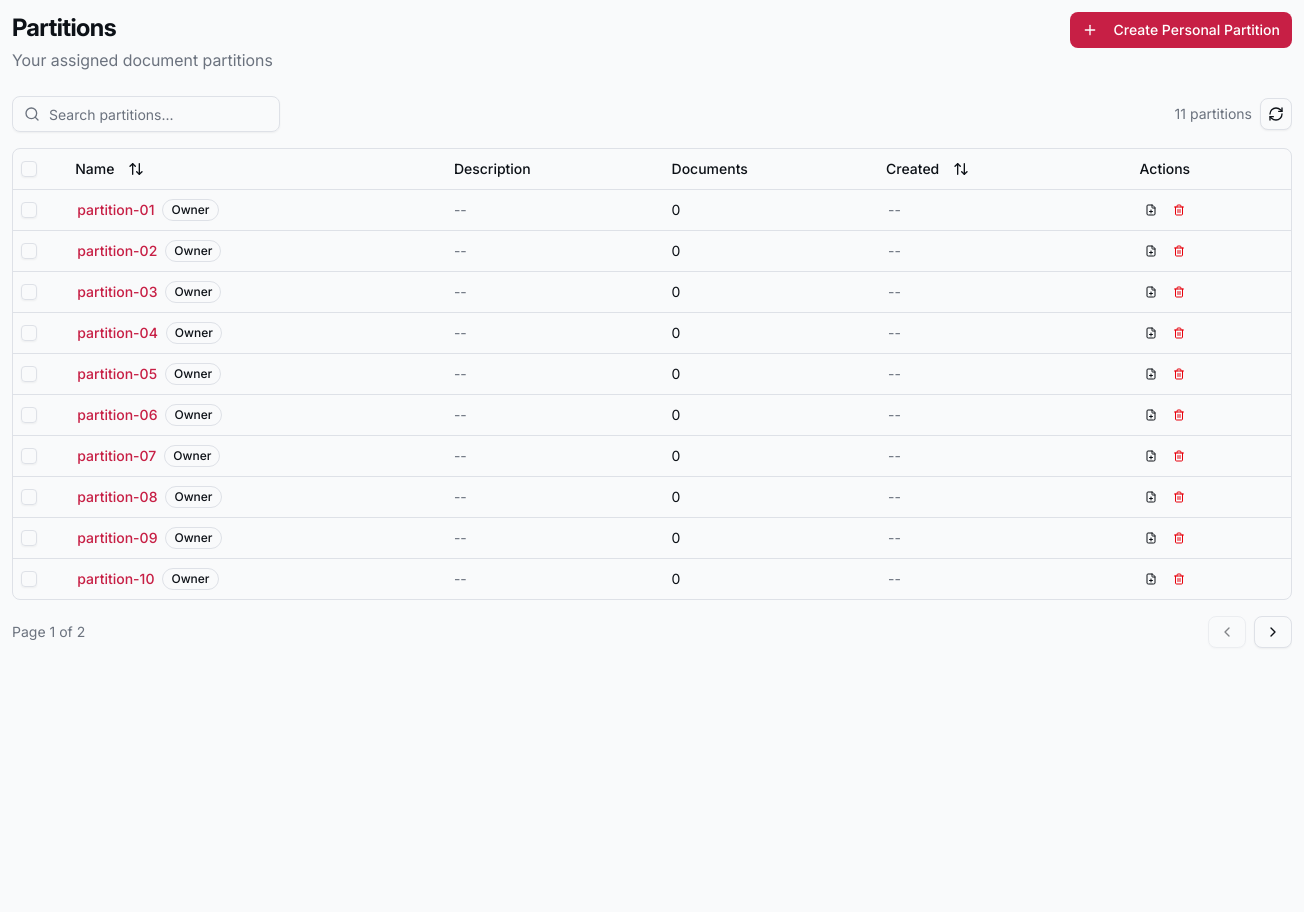
Test: PartitionListPage bulk actions › paginates partitions with 10 rows per page
Expected: the link "partition-01" is shown, [77,200,154,220]
Expected: the link "partition-10" is shown, [77,568,154,588]
What coordinates should you click on to do the following:
click the button named "next page"
I would click on:
 (1273, 632)
Its box is [1254,616,1292,648].
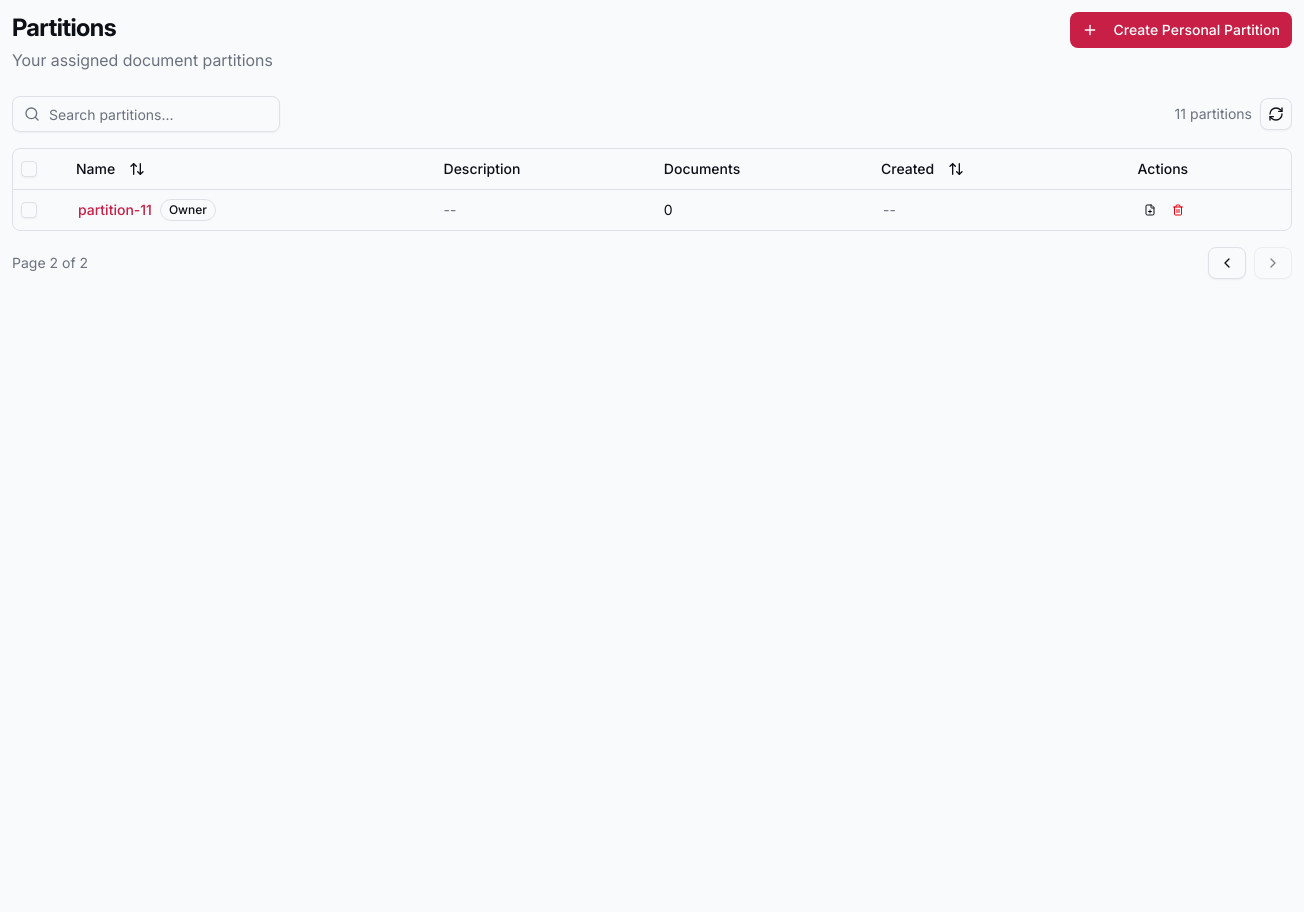
Expected: the link "partition-11" is shown, [78,200,152,220]
Expected: the link "partition-01" is gone
Expected: the text "Page 2 of 2" is shown, [12,252,88,272]
